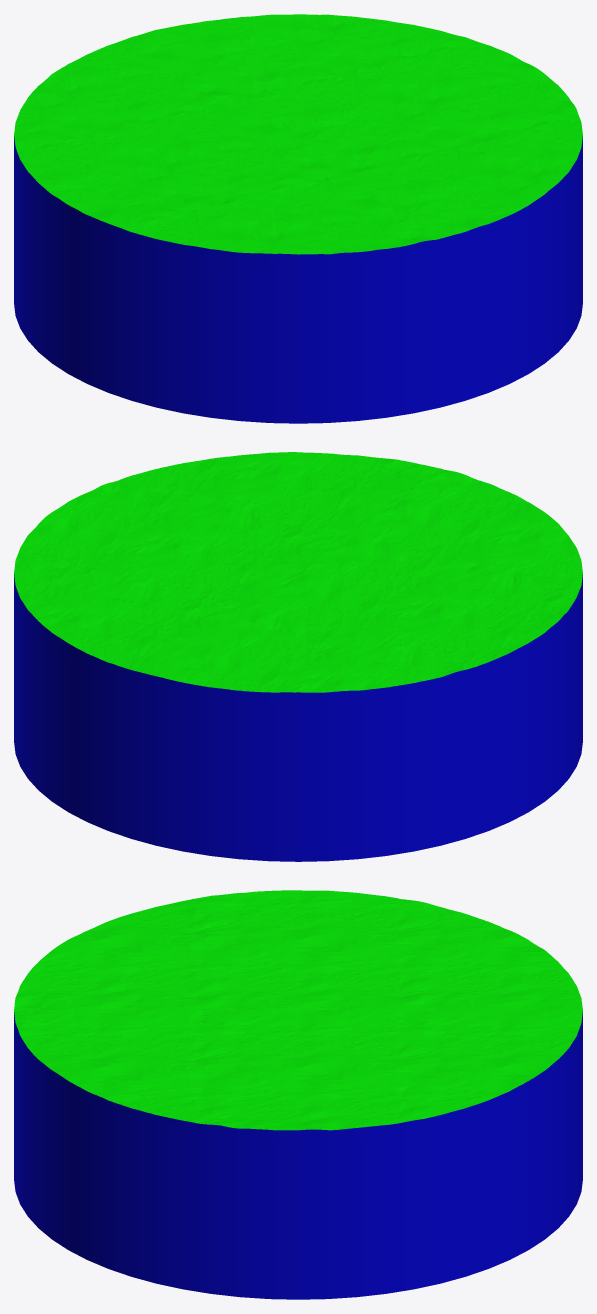
File: ocean_sample_B_50k_R.fbx
3 renders of one model, top to bottom at view 1: azimuth 30°, elevation 25°; view 2: azimuth 150°, elevation 25°; view 3: azimuth 270°, elevation 25°, orthographic.
Parts seen in each view (by area): view 1: ocean_sample_B_50k_top_R, ocean_sample_B_50k_bottom_R; view 2: ocean_sample_B_50k_top_R, ocean_sample_B_50k_bottom_R; view 3: ocean_sample_B_50k_top_R, ocean_sample_B_50k_bottom_R.
Part boxes in pixels (bbox=[...]): ocean_sample_B_50k_top_R: bbox=[14, 14, 582, 269]; ocean_sample_B_50k_bottom_R: bbox=[14, 151, 582, 423]; ocean_sample_B_50k_top_R: bbox=[14, 452, 582, 708]; ocean_sample_B_50k_bottom_R: bbox=[14, 589, 582, 861]; ocean_sample_B_50k_top_R: bbox=[14, 890, 582, 1145]; ocean_sample_B_50k_bottom_R: bbox=[14, 1027, 582, 1299].
Size of the model in its own units: 5489 by 1810 by 5489.
